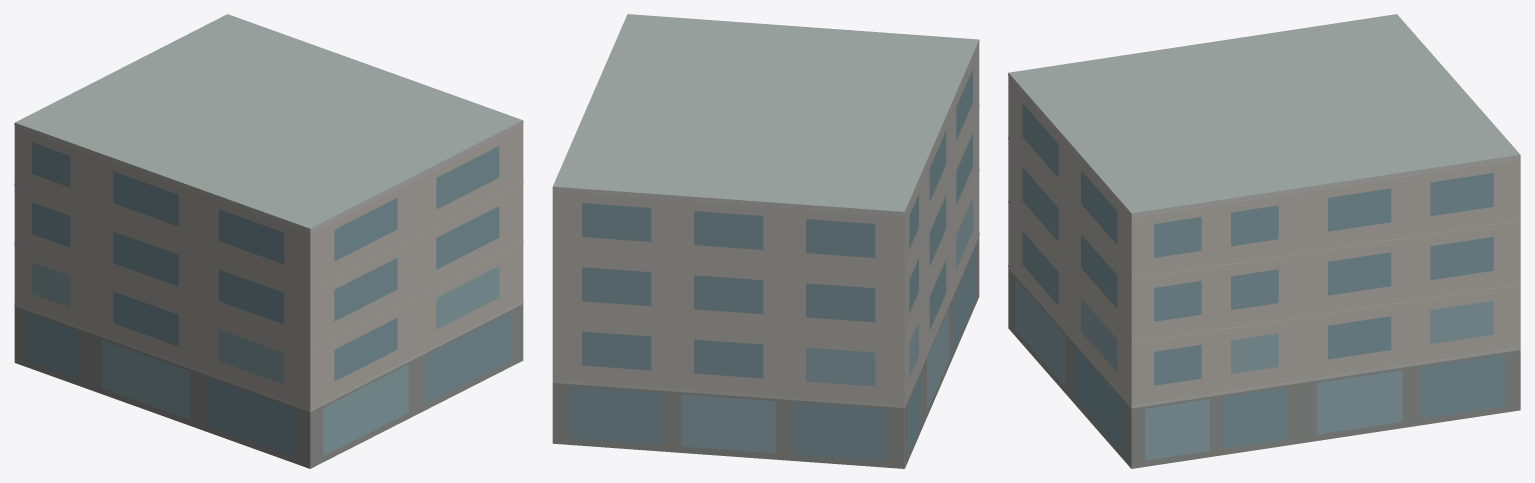
The model's file is survey-upis-32648363.glb.
The picture shows the model from 3 angles, left to right: view 1: azimuth 30°, elevation 25°; view 2: azimuth 150°, elevation 25°; view 3: azimuth 270°, elevation 25°; orthographic projection. The views are drawn at different scales.
Visible parts, largest first — view 1: survey-upis-32648363.tmp; view 2: survey-upis-32648363.tmp; view 3: survey-upis-32648363.tmp.
Part boxes in pixels (x1,y1,x2,y2): survey-upis-32648363.tmp: [14, 14, 523, 468]; survey-upis-32648363.tmp: [552, 14, 979, 468]; survey-upis-32648363.tmp: [1008, 14, 1520, 468].
Size of the model in its own units: 20.43 by 12.2 by 22.19.
